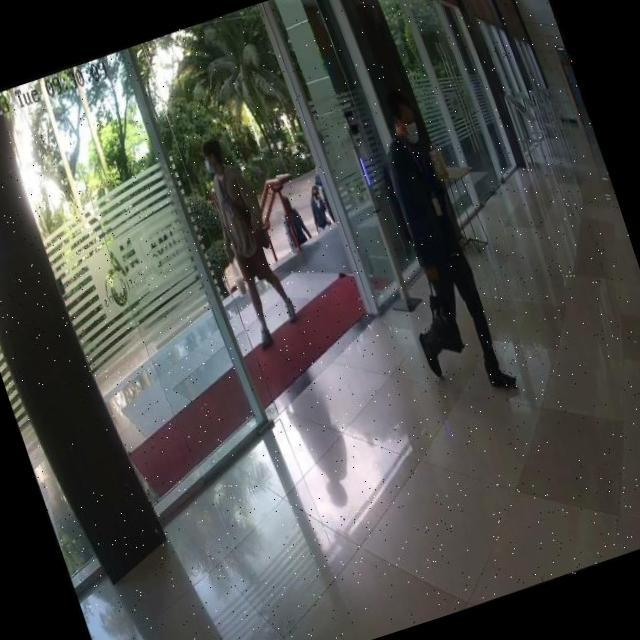person: (345, 90, 517, 404), (194, 131, 303, 346)
